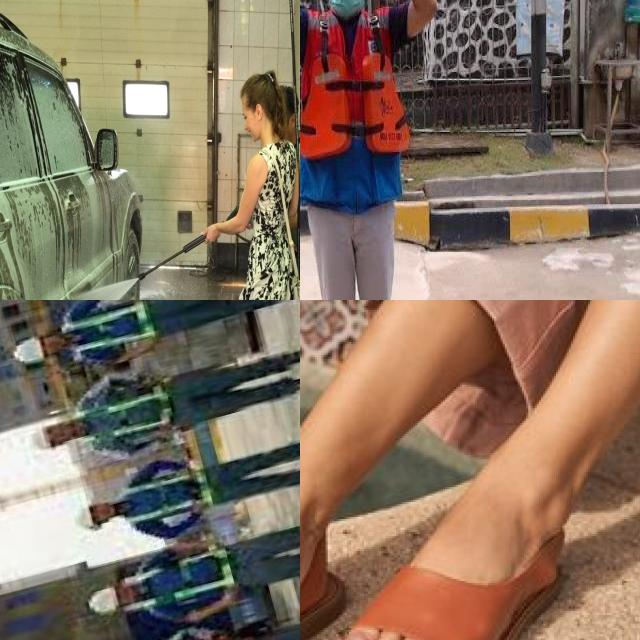Harness: (120, 546, 238, 619), (66, 378, 180, 452), (115, 465, 217, 530), (58, 300, 159, 361)
Sandals: (321, 493, 571, 640)
person: (300, 0, 449, 300)
vest: (300, 6, 407, 201)
